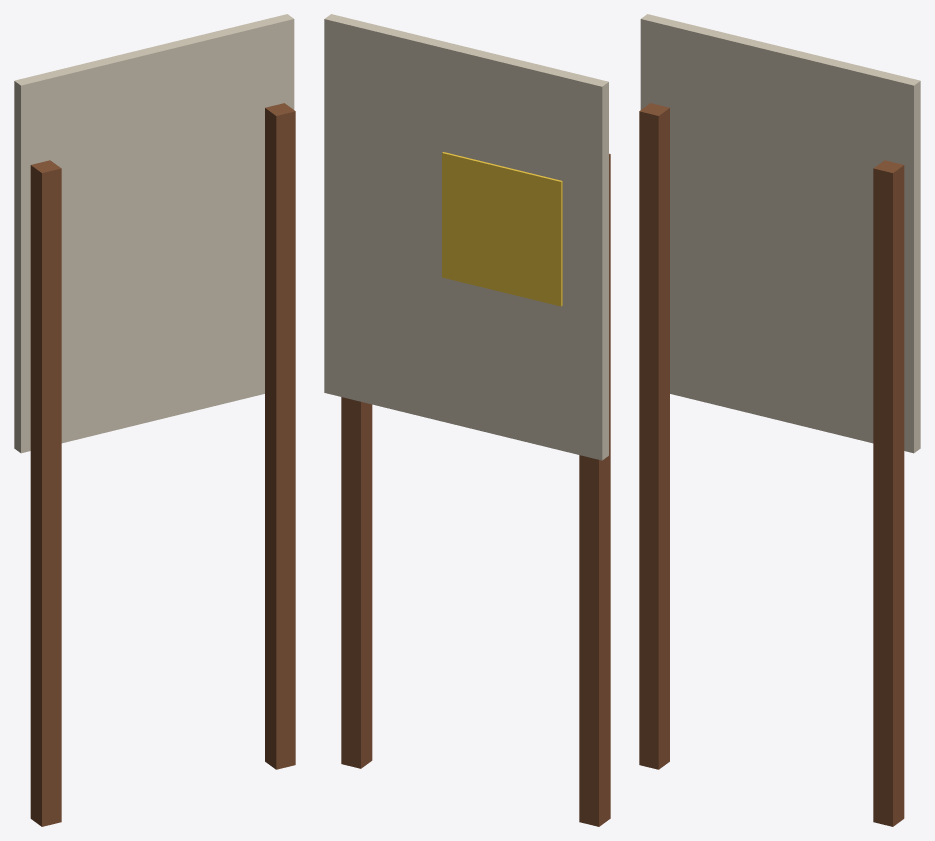
The model's file is easel_3.glb.
3 renders of one model, left to right at view 1: azimuth 30°, elevation 25°; view 2: azimuth 150°, elevation 25°; view 3: azimuth 330°, elevation 25°, orthographic.
Visible parts, largest first — view 1: Box3, Box2, Box1; view 2: Box3, Box4, Box2, Box1; view 3: Box3, Box1, Box2.
Boxes of the visible parts, x1,y1,x2,y2 form: Box3: (14,14,294,453); Box2: (30,160,61,826); Box1: (265,103,295,769); Box3: (324,14,608,460); Box4: (442,152,562,306); Box2: (579,153,610,826); Box1: (341,397,372,768); Box3: (640,14,920,453); Box1: (873,160,904,826); Box2: (639,103,669,769).
Size of the model in its own units: 0.7 by 1.8 by 0.086.
